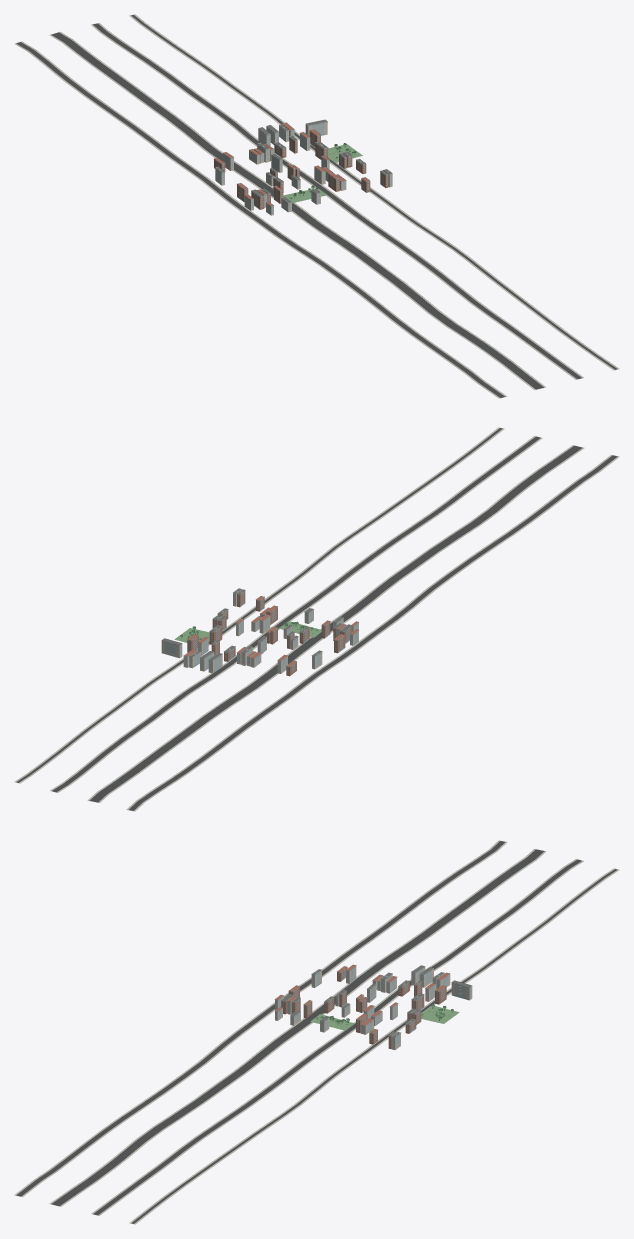
3 renders of one model, top to bottom at view 1: azimuth 30°, elevation 25°; view 2: azimuth 150°, elevation 25°; view 3: azimuth 330°, elevation 25°, orthographic.
Visible parts, largest first — view 1: road-v-28-mesh-3, road-v-27-mesh-1, road-v-29-mesh-5, road-v-27-mesh-0, road-v-28-mesh-2, road-v-29-mesh-4, road-v-30-mesh-6, road-v-30-mesh-7; view 2: road-v-28-mesh-3, road-v-27-mesh-1, road-v-29-mesh-5, road-v-27-mesh-0, road-v-28-mesh-2, road-v-29-mesh-4, road-v-30-mesh-6, road-v-30-mesh-7; view 3: road-v-28-mesh-3, road-v-27-mesh-1, road-v-29-mesh-5, road-v-28-mesh-2, road-v-27-mesh-0, road-v-30-mesh-6, road-v-29-mesh-4, road-v-30-mesh-7.
Part boxes in pixels (left/top/right/bottom): road-v-28-mesh-3: left=51, top=32, right=543, bottom=389; road-v-27-mesh-1: left=16, top=42, right=505, bottom=397; road-v-29-mesh-5: left=93, top=23, right=581, bottom=379; road-v-27-mesh-0: left=14, top=41, right=507, bottom=398; road-v-28-mesh-2: left=49, top=31, right=546, bottom=390; road-v-29-mesh-4: left=91, top=23, right=583, bottom=379; road-v-30-mesh-6: left=129, top=14, right=619, bottom=370; road-v-30-mesh-7: left=131, top=15, right=617, bottom=369; road-v-28-mesh-3: left=89, top=445, right=582, bottom=802; road-v-27-mesh-1: left=129, top=455, right=617, bottom=810; road-v-29-mesh-5: left=52, top=436, right=540, bottom=792; road-v-27-mesh-0: left=126, top=454, right=619, bottom=811; road-v-28-mesh-2: left=87, top=445, right=584, bottom=802; road-v-29-mesh-4: left=50, top=436, right=542, bottom=792; road-v-30-mesh-6: left=14, top=427, right=504, bottom=783; road-v-30-mesh-7: left=16, top=428, right=502, bottom=782; road-v-28-mesh-3: left=51, top=849, right=544, bottom=1206; road-v-27-mesh-1: left=16, top=841, right=504, bottom=1196; road-v-29-mesh-5: left=93, top=859, right=581, bottom=1215; road-v-28-mesh-2: left=49, top=849, right=546, bottom=1206; road-v-27-mesh-0: left=14, top=840, right=507, bottom=1197; road-v-30-mesh-6: left=129, top=868, right=619, bottom=1224; road-v-29-mesh-4: left=91, top=859, right=583, bottom=1215; road-v-30-mesh-7: left=131, top=869, right=617, bottom=1223.
Size of the model in its own units: 285 by 24.33 by 1607.
